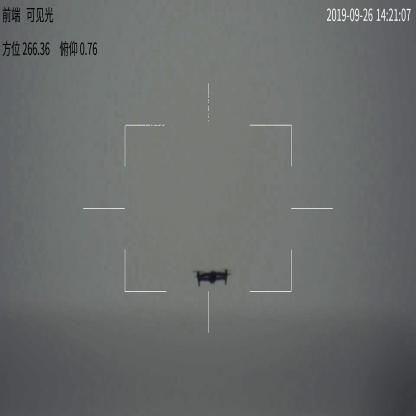uav: (188, 266, 236, 289)
